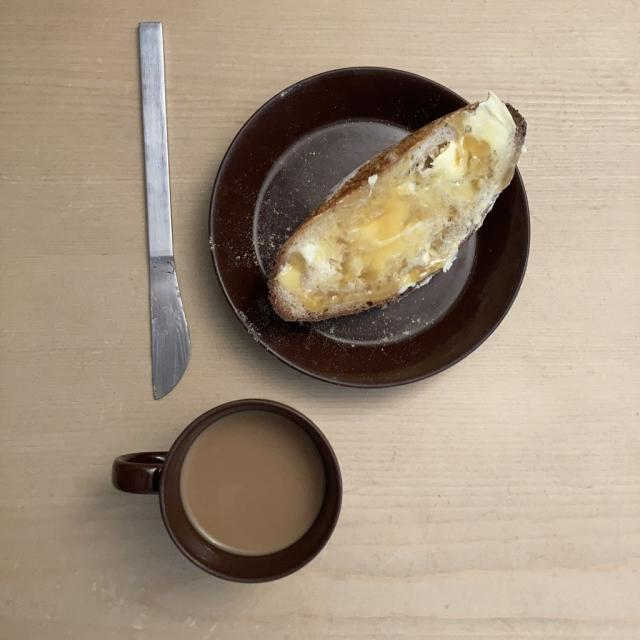bread: (273, 107, 517, 317)
butter: (298, 133, 491, 294)
coffee: (182, 414, 316, 551)
honey: (284, 122, 505, 308)
